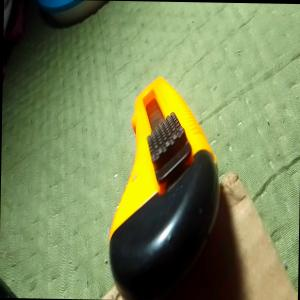estilete: (106, 73, 221, 300)
